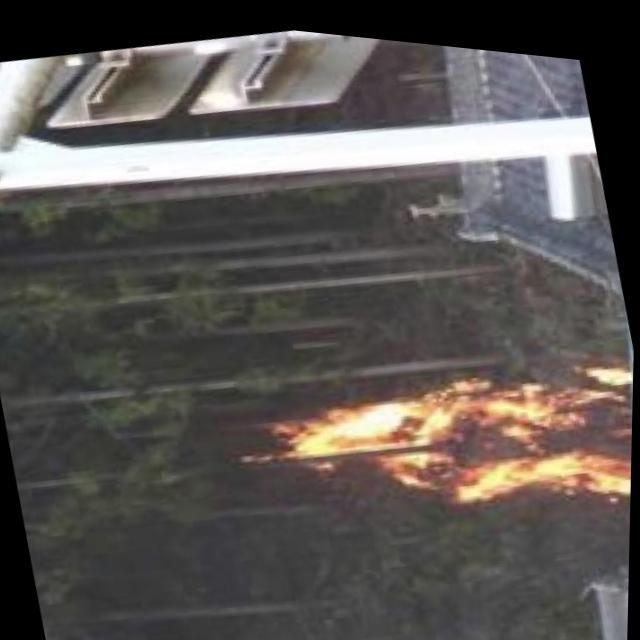Fire: (264, 297, 635, 550)
